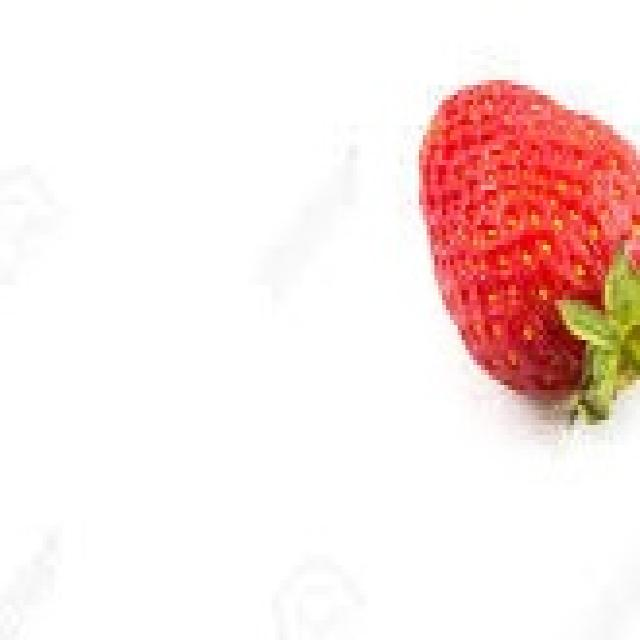strawberry: (408, 54, 640, 430)
